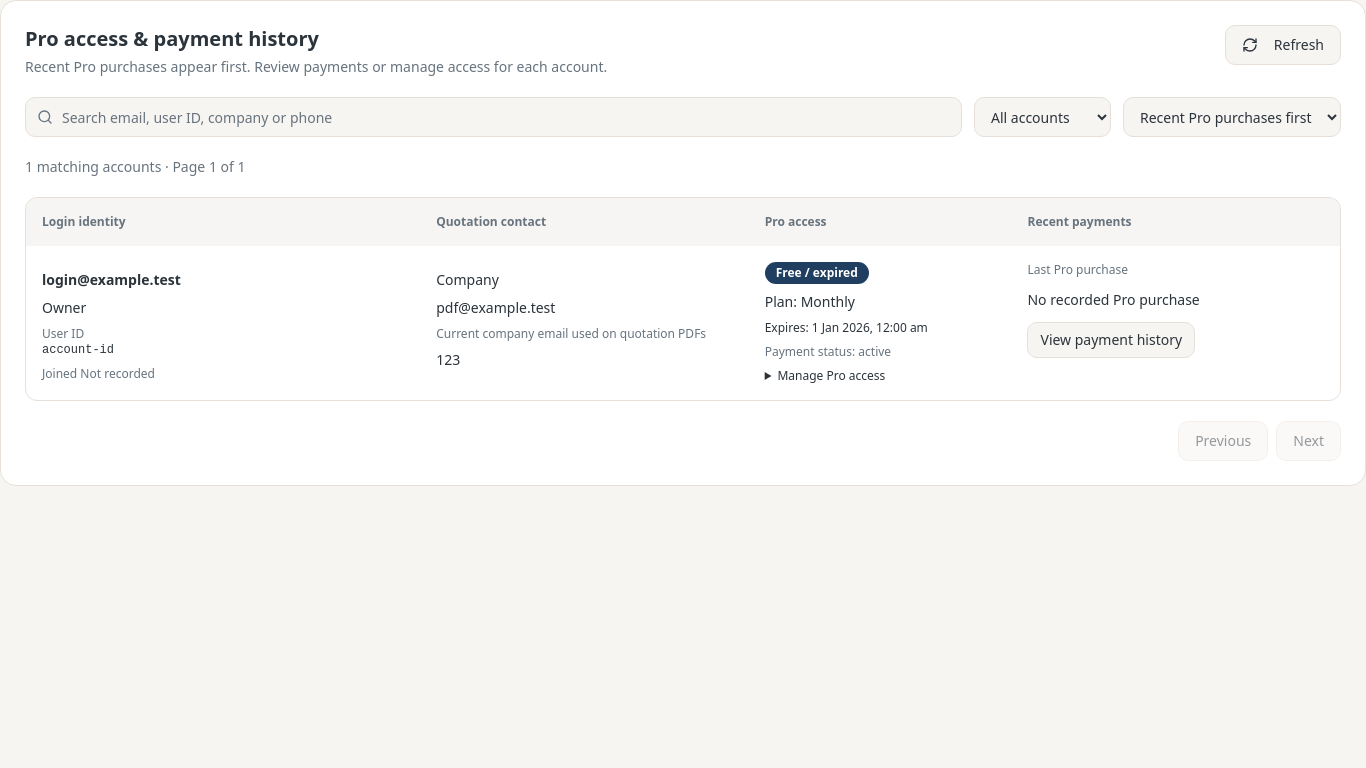
Test case: shows the amount and provider reference for billing investigation
Step 1. Click the button "View payment history" → click(1111, 340), box [1028,322,1195,358]
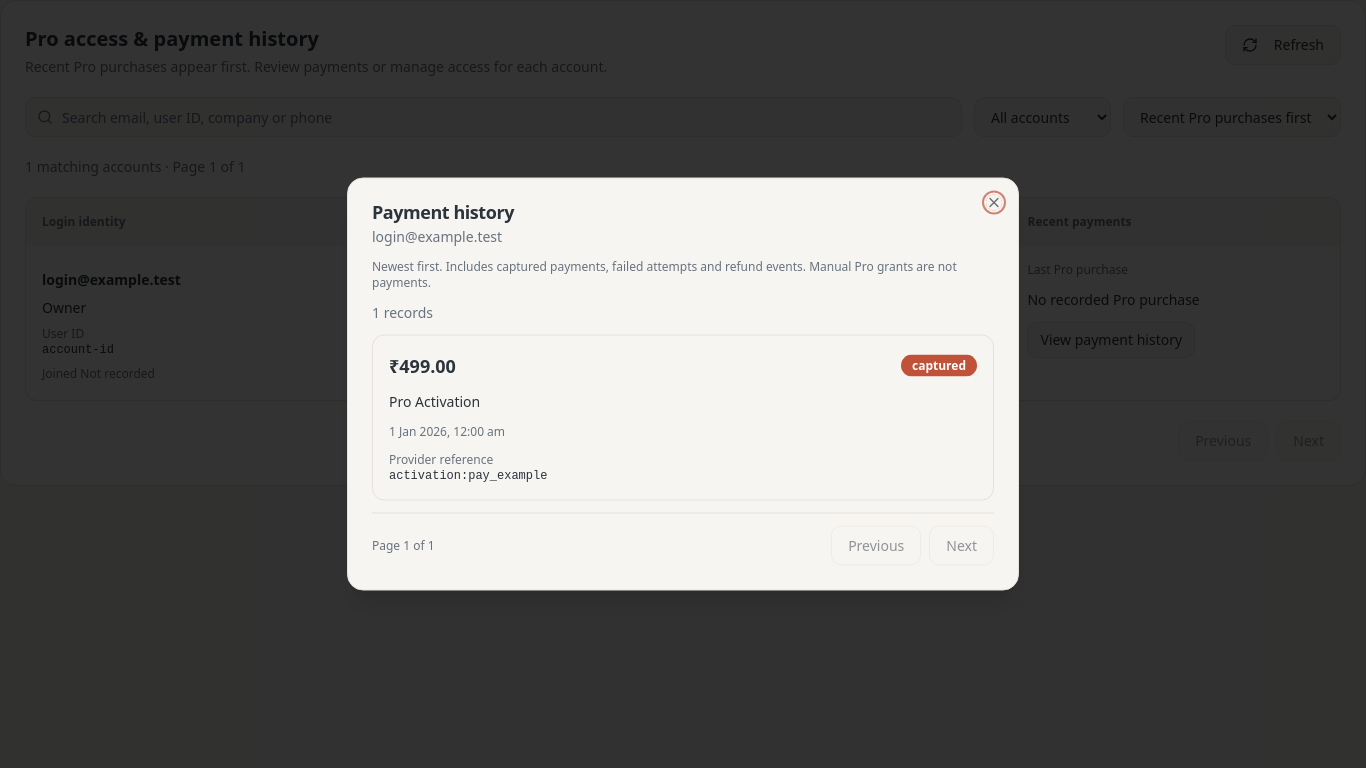
expect the dialog is shown: met, box [347,178,1019,590]
expect the text "₹499.00" is shown: met, box [389,352,456,380]
expect the text "activation:pay_example" is shown: met, box [389,468,547,482]
